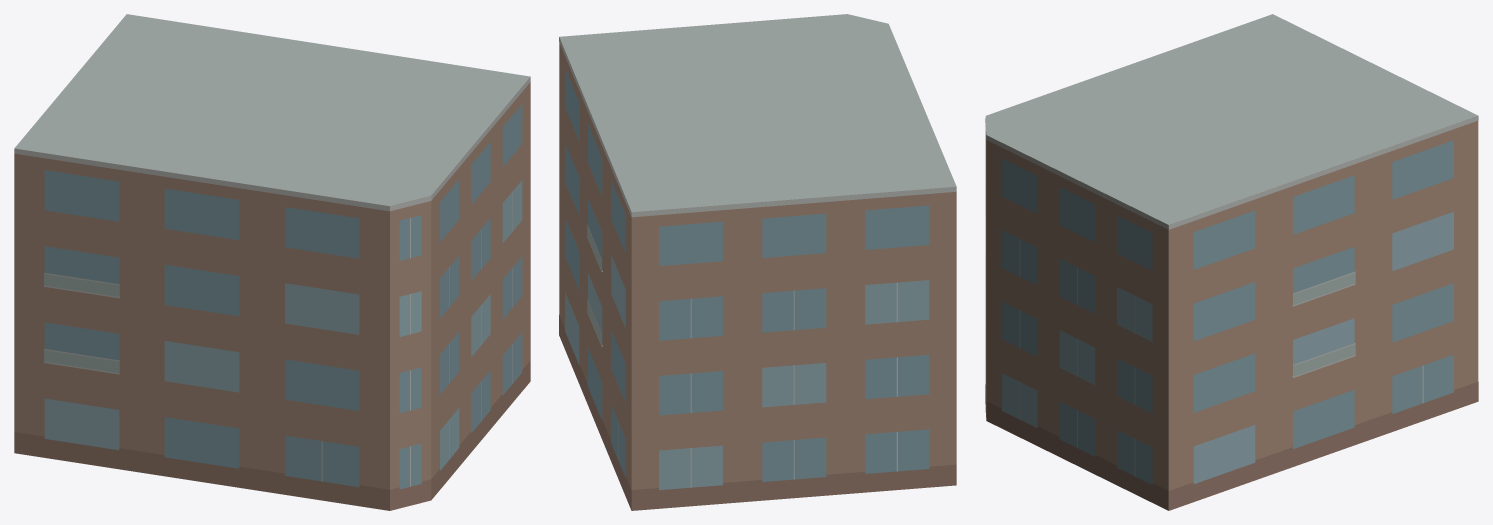
The model's file is survey-upis-32745770.glb.
3 views of the same model, side by side, from view 1: azimuth 30°, elevation 25°; view 2: azimuth 150°, elevation 25°; view 3: azimuth 270°, elevation 25° (orthographic). The views are drawn at different scales.
Visible parts, largest first — view 1: survey-upis-32745770.tmp; view 2: survey-upis-32745770.tmp; view 3: survey-upis-32745770.tmp.
Part boxes in pixels (x1,y1,x2,y2): survey-upis-32745770.tmp: [14, 14, 530, 510]; survey-upis-32745770.tmp: [559, 14, 956, 510]; survey-upis-32745770.tmp: [985, 14, 1478, 510].
Bounding box in the file's own units: 22.81 × 14.4 × 22.52.
